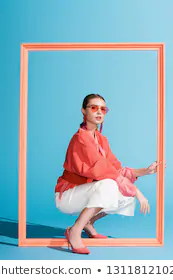person: (60, 88, 118, 161)
